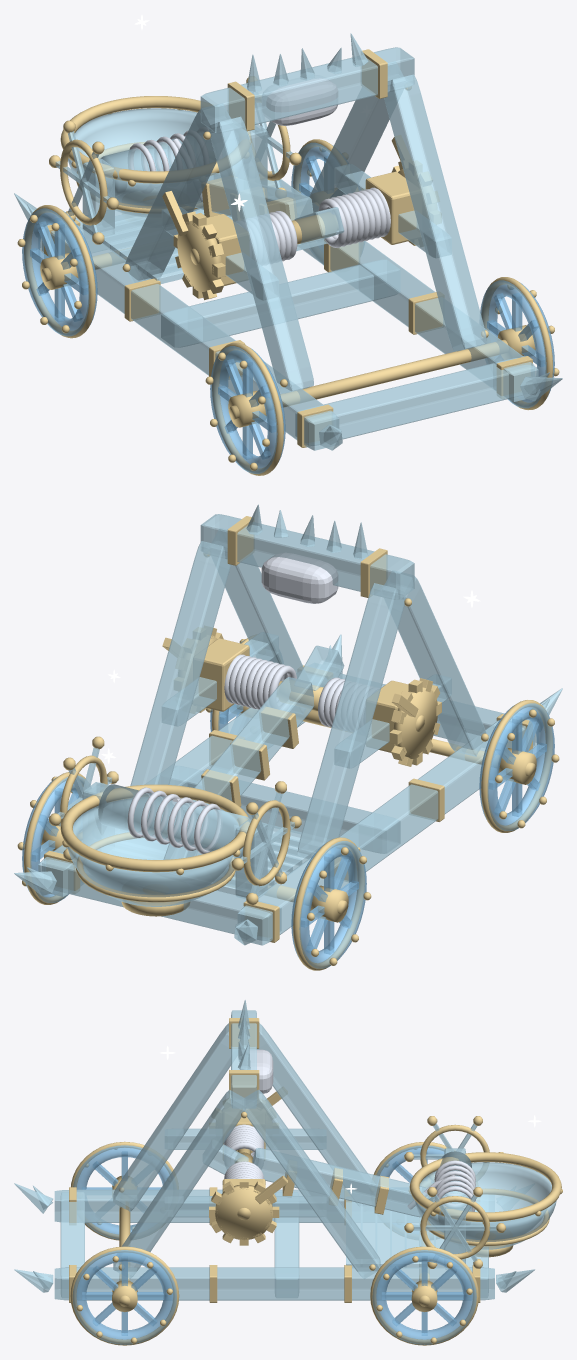
The model's file is dm_catapultdiamond.glb.
The picture shows the model from 3 angles, top to bottom: view 1: azimuth 30°, elevation 25°; view 2: azimuth 150°, elevation 25°; view 3: azimuth 270°, elevation 25°; orthographic projection. The views are drawn at different scales.
Visible parts, largest first — view 1: Base_Glass_FrameFront.001, Base_Glass_FrameFront, Base_Glass_Rail, Base_Glass_CrossBeam, Base_Glass_StopBar, Base_Glass_Rail.001, Base_Glass_CrossBeam.001, Base_Glass_FrameBack, Arm_Glass_Bucket, Base_Glass_FrameBack.001, Arm_Metal_BucketRim, Base_Glass_WheelRim.001 (+39 smaller); view 2: Base_Glass_FrameBack, Base_Glass_FrameBack.001, Base_Glass_Rail, Arm_Glass_Bucket, Base_Glass_StopBar, Base_Glass_FrameFront, Arm_Glass_ArmBeam, Arm_Metal_BucketRim, Base_Glass_WinchDrum, Base_Glass_FrameFront.001, Base_Glass_CrossBeam.002, Base_Glass_CrossBeam.001 (+39 smaller); view 3: Base_Glass_Rail.001, Base_Glass_FrameBack.001, Base_Glass_FrameFront, Base_Glass_FrameFront.001, Arm_Glass_Bucket, Base_Glass_FrameBack, Arm_Glass_ArmBeam, Base_Glass_WheelRim.003, Base_Glass_WheelRim.002, Base_Glass_Rail, Arm_Metal_BucketRim, Base_Metal_Ratchet.001 (+32 smaller).
Part boxes in pixels (left/top/right/bottom): Base_Glass_FrameFront.001: left=384, top=74, right=486, bottom=351; Base_Glass_FrameFront: left=209, top=116, right=313, bottom=393; Base_Glass_Rail: left=40, top=224, right=339, bottom=450; Base_Glass_CrossBeam: left=295, top=358, right=534, bottom=445; Base_Glass_StopBar: left=200, top=47, right=414, bottom=132; Base_Glass_Rail.001: left=267, top=170, right=538, bottom=401; Base_Glass_CrossBeam.001: left=161, top=260, right=400, bottom=347; Base_Glass_FrameBack: left=125, top=105, right=230, bottom=282; Arm_Glass_Bucket: left=68, top=108, right=219, bottom=217; Base_Glass_FrameBack.001: left=309, top=63, right=403, bottom=212; Arm_Metal_BucketRim: left=60, top=96, right=251, bottom=183; Base_Glass_WheelRim.001: left=22, top=208, right=97, bottom=336; Base_Glass_FrameBack: left=297, top=583, right=405, bottom=858; Base_Glass_FrameBack.001: left=130, top=541, right=230, bottom=785; Base_Glass_Rail: left=237, top=719, right=536, bottom=945; Arm_Glass_Bucket: left=67, top=798, right=243, bottom=906; Base_Glass_StopBar: left=200, top=514, right=414, bottom=599; Base_Glass_FrameFront: left=384, top=572, right=486, bottom=756; Arm_Glass_ArmBeam: left=192, top=677, right=314, bottom=804; Arm_Metal_BucketRim: left=60, top=784, right=249, bottom=872; Base_Glass_WinchDrum: left=98, top=784, right=249, bottom=856; Base_Glass_FrameFront.001: left=212, top=530, right=303, bottom=678; Base_Glass_CrossBeam.002: left=42, top=853, right=281, bottom=940; Base_Glass_CrossBeam.001: left=169, top=766, right=400, bottom=853; Base_Glass_Rail.001: left=54, top=1267, right=494, bottom=1300; Base_Glass_FrameBack.001: left=243, top=1089, right=380, bottom=1278; Base_Glass_FrameFront: left=113, top=1023, right=230, bottom=1211; Base_Glass_FrameFront.001: left=113, top=1089, right=245, bottom=1278; Arm_Glass_Bucket: left=415, top=1162, right=556, bottom=1249; Base_Glass_FrameBack: left=257, top=1023, right=368, bottom=1206; Arm_Glass_ArmBeam: left=252, top=1148, right=430, bottom=1217; Base_Glass_WheelRim.003: left=372, top=1250, right=476, bottom=1344; Base_Glass_WheelRim.002: left=72, top=1250, right=176, bottom=1344; Base_Glass_Rail: left=54, top=1189, right=344, bottom=1222; Arm_Metal_BucketRim: left=409, top=1152, right=561, bottom=1221; Base_Metal_Ratchet.001: left=215, top=1185, right=272, bottom=1240.
Bounding box in the file's own units: 9 × 9.84 × 17.95.
